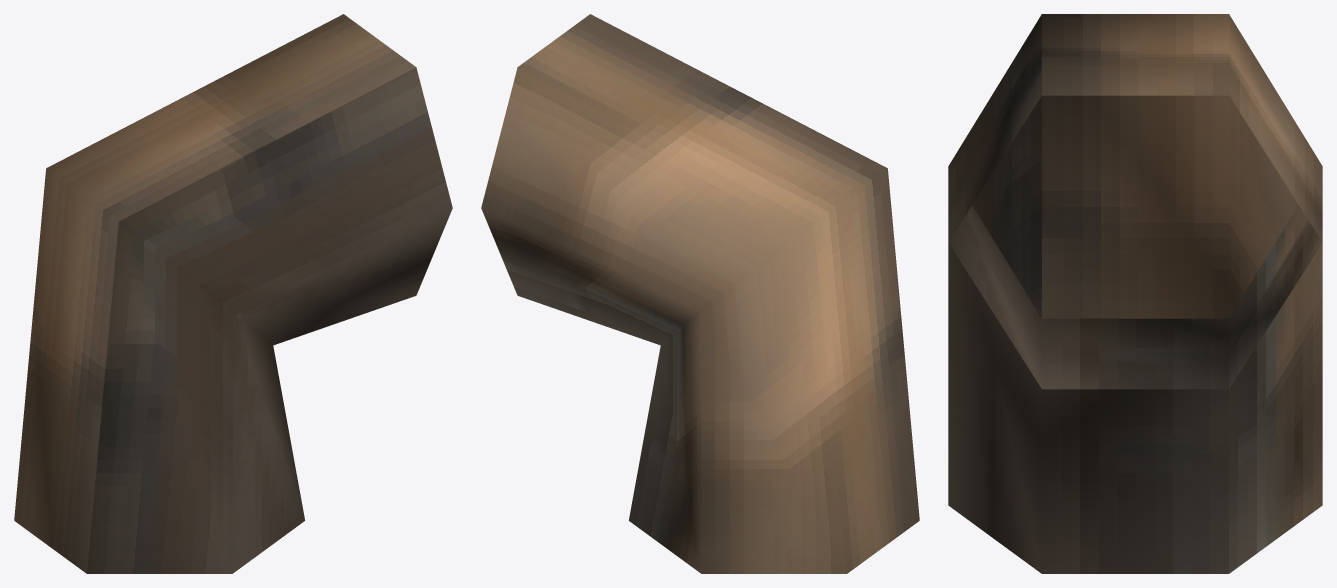
Rendered from CornerPipe.glb.
The picture shows the model from 3 angles, left to right: view 1: azimuth 30°, elevation 25°; view 2: azimuth 150°, elevation 25°; view 3: azimuth 270°, elevation 25°; orthographic projection. The views are drawn at different scales.
Parts seen in each view (by area): view 1: Cylinder.003; view 2: Cylinder.003; view 3: Cylinder.003.
Part boxes in pixels (box(x1,y1,x2,y2)): Cylinder.003: box(14, 14, 452, 573); Cylinder.003: box(481, 14, 919, 573); Cylinder.003: box(948, 14, 1322, 573).
Size of the model in its own units: 2.61 by 3.23 by 2.
1 material, 1 textured.
